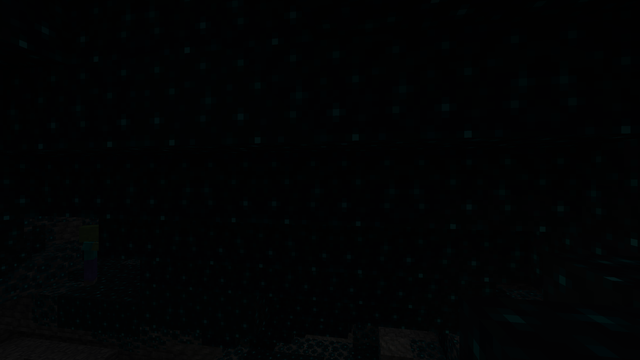zombies: (74, 225, 106, 286)
